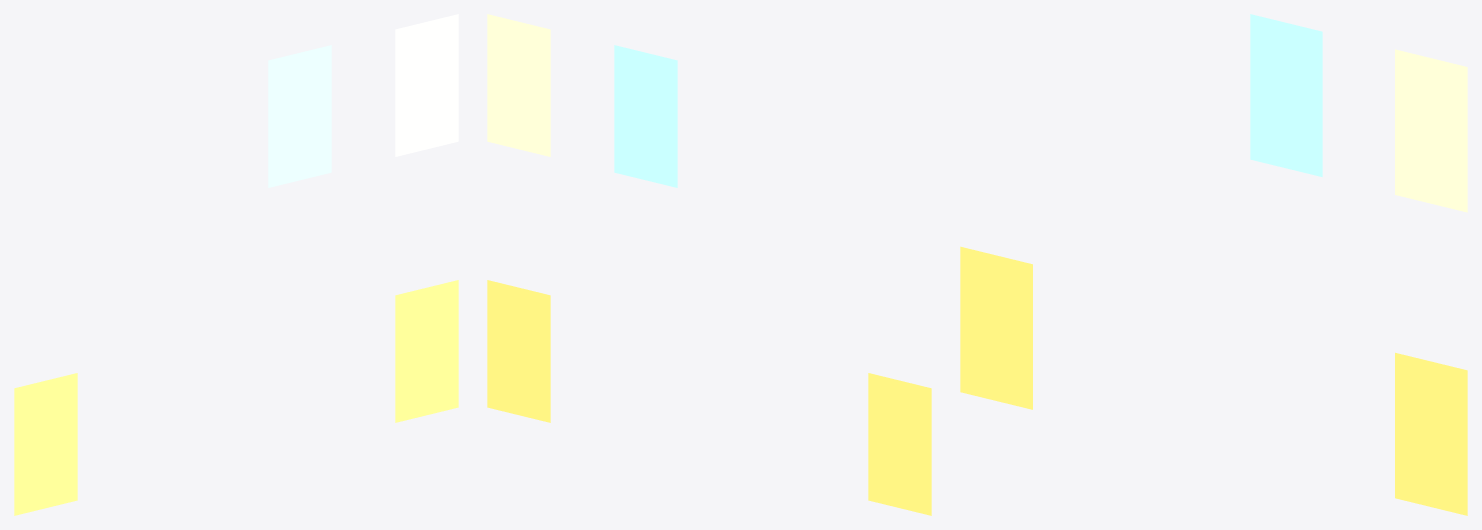
The model's file is window-lights-3.glb.
The picture shows the model from 3 angles, left to right: view 1: azimuth 30°, elevation 25°; view 2: azimuth 150°, elevation 25°; view 3: azimuth 330°, elevation 25°; orthographic projection. The views are drawn at different scales.
Visible parts, largest first — view 1: window amber, window tv, window warm; view 2: window amber, window tv, window warm; view 3: window amber, window warm, window tv.
Part boxes in pixels (x1,y1,x2,y2): window amber: (14, 280, 458, 515); window tv: (268, 45, 331, 187); window warm: (395, 14, 458, 156); window amber: (487, 280, 931, 515); window tv: (614, 45, 677, 187); window warm: (487, 14, 550, 156); window amber: (960, 246, 1467, 515); window warm: (1395, 49, 1467, 212); window tv: (1250, 14, 1322, 176).
Bounding box in the file's own units: 0.5833 × 0.4933 × 0.
